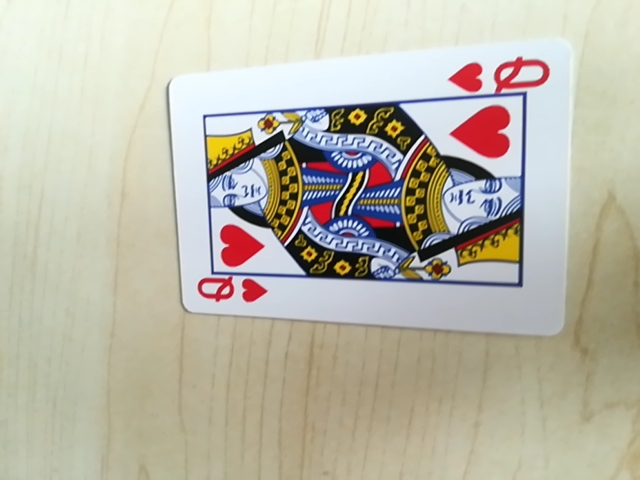hx q: (447, 53, 553, 98), (194, 273, 268, 311)
